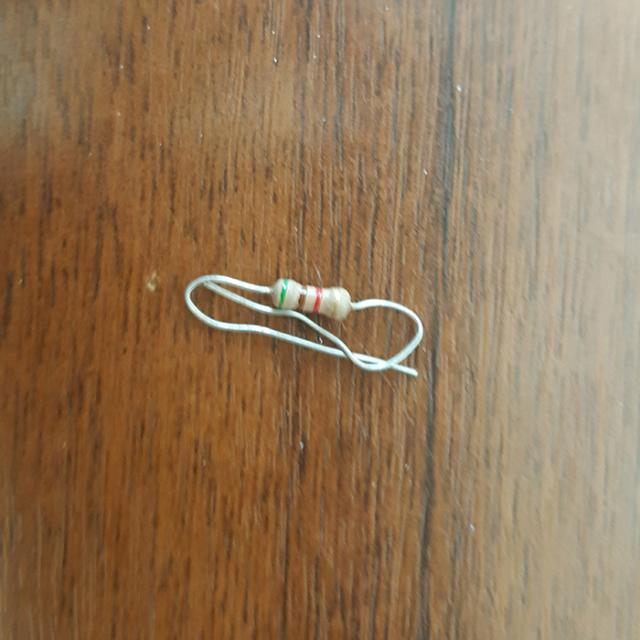brown: (297, 283, 308, 309)
gold: (332, 288, 341, 315)
green: (279, 278, 290, 307)
red: (315, 288, 323, 310)
resistor: (265, 267, 356, 327)
